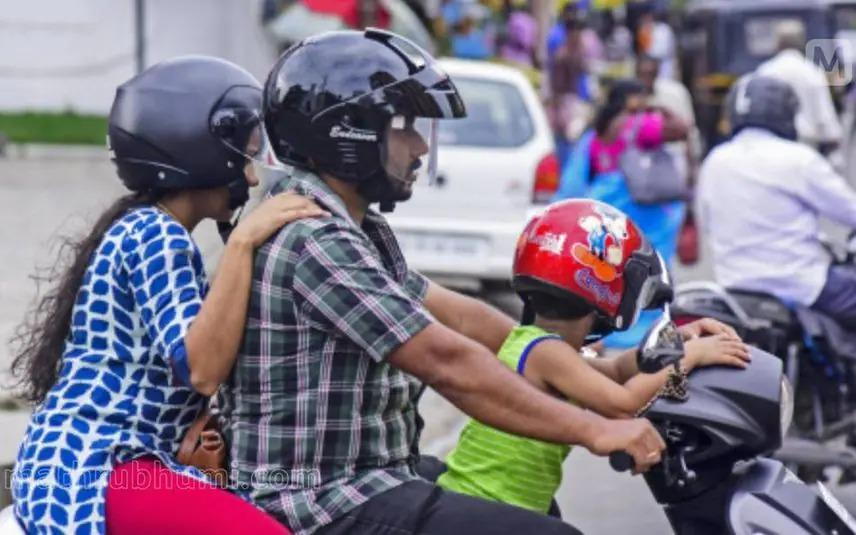helmet: (261, 24, 468, 215), (105, 53, 269, 226), (511, 196, 676, 336), (723, 72, 803, 143)
